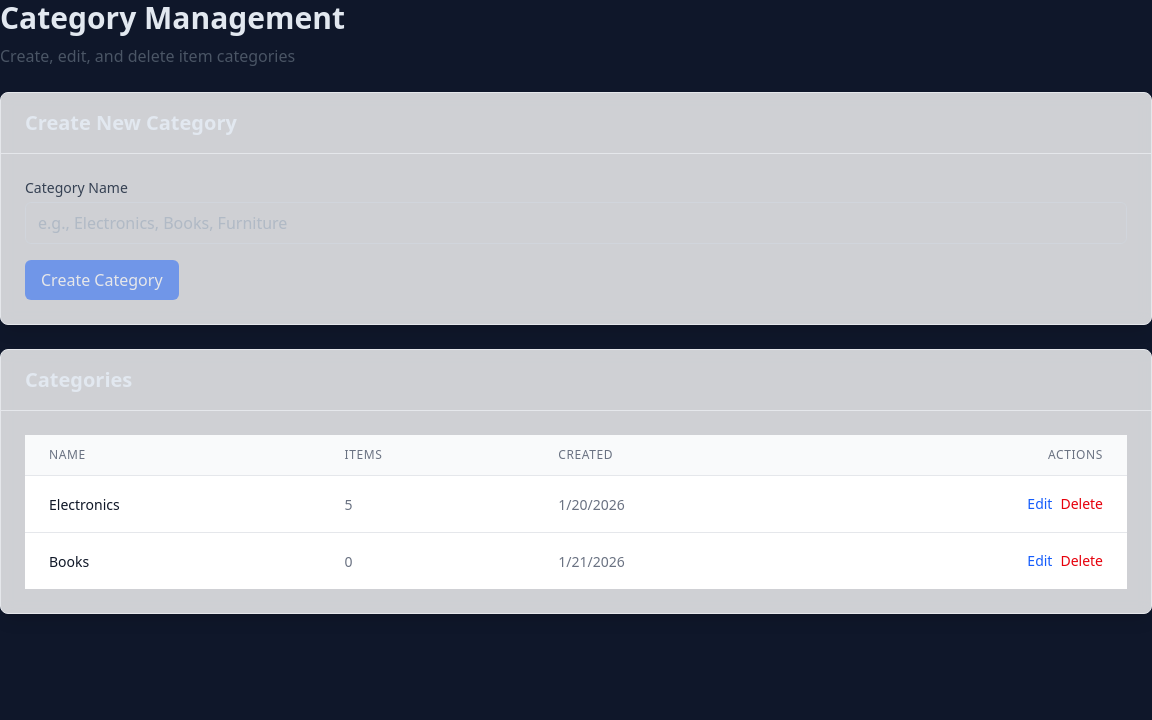
it: CategoryManagement › shows confirmation dialog when deleting category
Expected: the text "Books" is shown, [49, 552, 89, 571]
Click the button with aria-label "Delete category Books": {"x": 1082, "y": 561} [1060, 551, 1103, 571]
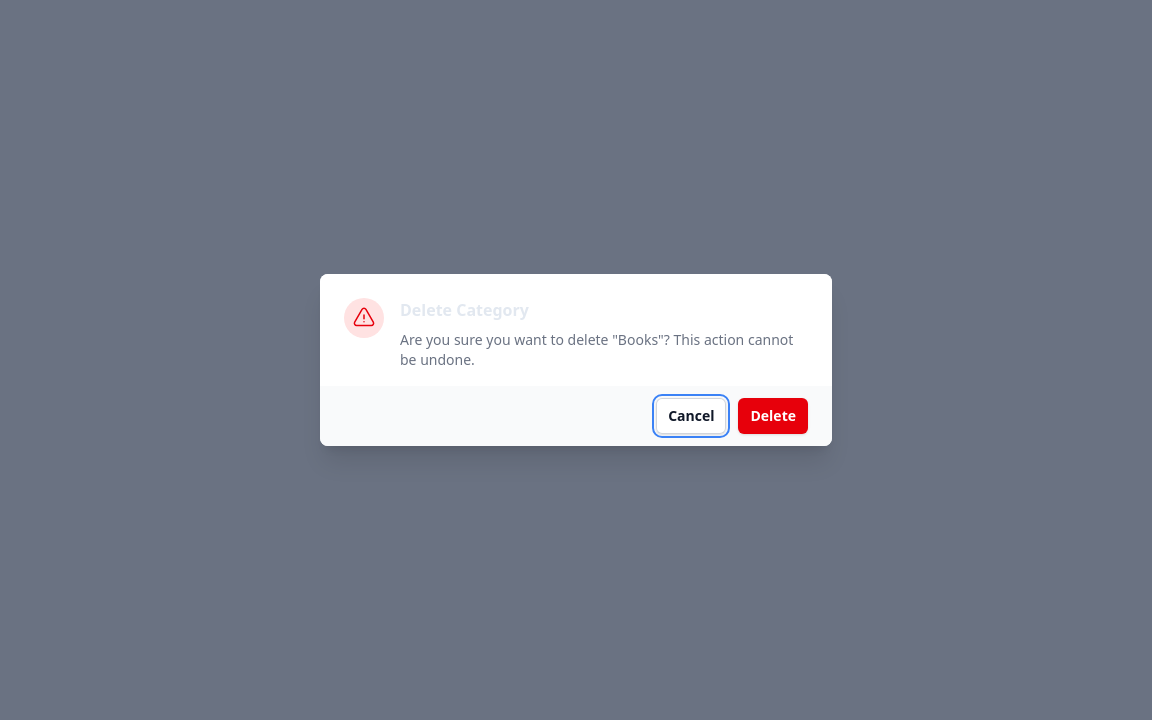
Now the heading "Delete Category" is shown, box [400, 299, 529, 321]
